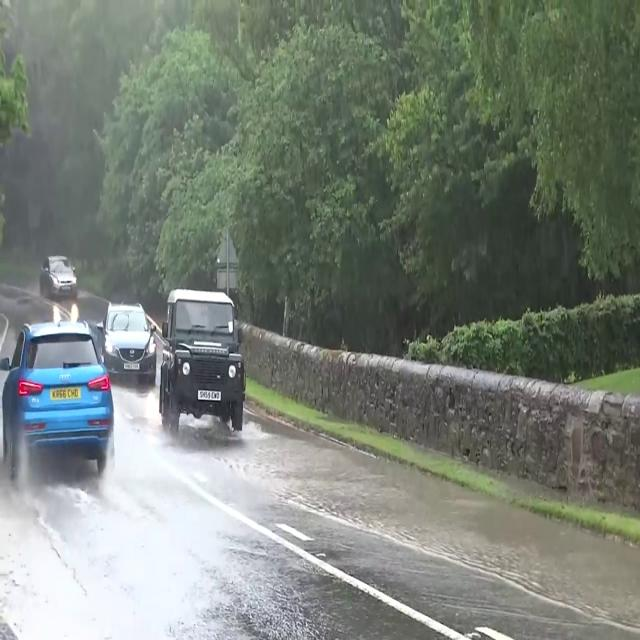license-plate-annotation: (48, 384, 85, 402)
